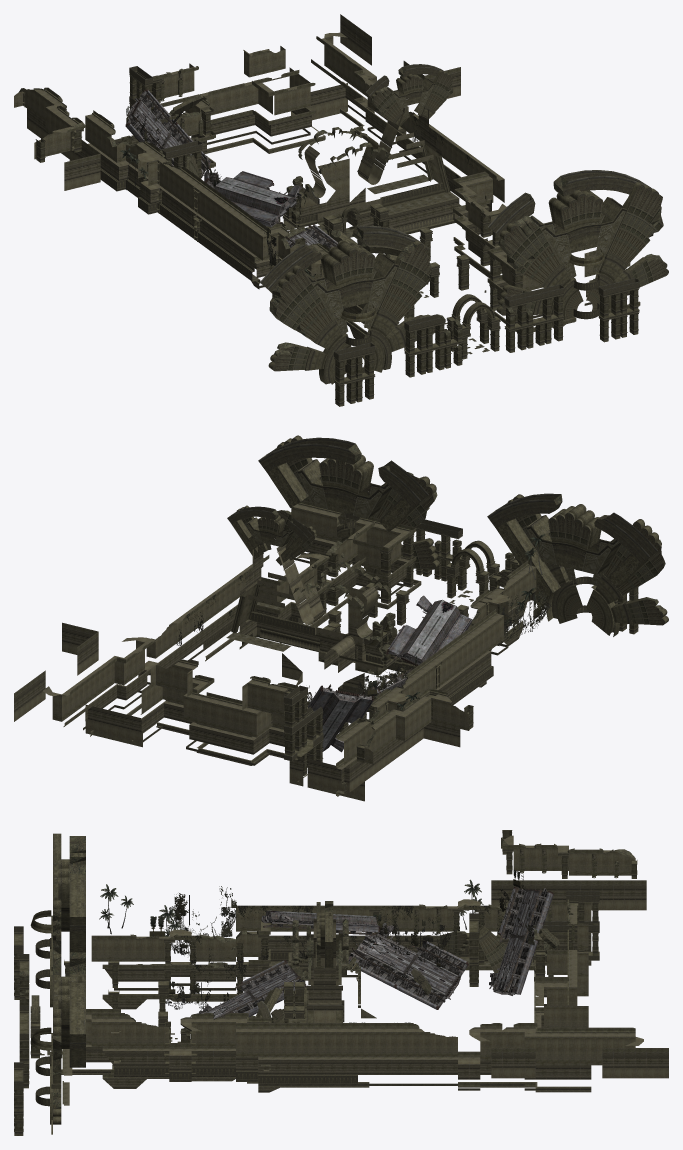
File: map0.fbx
3 views of the same model, one above another, from view 1: azimuth 30°, elevation 25°; view 2: azimuth 150°, elevation 25°; view 3: azimuth 270°, elevation 25° (orthographic). The views are drawn at different scales.
Visible parts, largest first — view 1: 0024_polySurfaceShape344815, 0016_polySurfaceShape344932, 0020_polySurfaceShape3434867, 0026_polySurfaceShape344938, 0021_polySurfaceShape3434868, 0022_kabeShape2, 0037_yasi_LShape, 0008_polySurfaceShape343488; view 2: 0024_polySurfaceShape344815, 0016_polySurfaceShape344932, 0021_polySurfaceShape3434868, 0020_polySurfaceShape3434867, 0026_polySurfaceShape344938, 0022_kabeShape2, 0037_yasi_LShape, 0008_polySurfaceShape343488, 0023_polySurfaceShape344815; view 3: 0016_polySurfaceShape344932, 0024_polySurfaceShape344815, 0021_polySurfaceShape3434868, 0026_polySurfaceShape344938, 0022_kabeShape2, 0037_yasi_LShape, 0020_polySurfaceShape3434867, 0033_polySurfaceShape3434878, 0028_polySurfaceShape343228.
Boxes of the visible parts, x1,y1,x2,y2 form: 0024_polySurfaceShape344815: [19, 64, 668, 406]; 0016_polySurfaceShape344932: [14, 46, 640, 338]; 0020_polySurfaceShape3434867: [169, 67, 325, 168]; 0026_polySurfaceShape344938: [125, 89, 337, 248]; 0021_polySurfaceShape3434868: [316, 14, 504, 202]; 0022_kabeShape2: [311, 59, 491, 211]; 0037_yasi_LShape: [120, 102, 474, 277]; 0008_polySurfaceShape343488: [252, 174, 486, 292]; 0024_polySurfaceShape344815: [227, 435, 668, 791]; 0016_polySurfaceShape344932: [85, 500, 536, 801]; 0021_polySurfaceShape3434868: [14, 555, 269, 721]; 0020_polySurfaceShape3434867: [132, 675, 310, 781]; 0026_polySurfaceShape344938: [307, 595, 472, 752]; 0022_kabeShape2: [63, 604, 239, 736]; 0037_yasi_LShape: [176, 534, 551, 709]; 0008_polySurfaceShape343488: [226, 602, 343, 793]; 0023_polySurfaceShape344815: [282, 653, 364, 688]; 0016_polySurfaceShape344932: [51, 835, 646, 1134]; 0024_polySurfaceShape344815: [14, 830, 637, 1135]; 0021_polySurfaceShape3434868: [236, 1023, 668, 1078]; 0026_polySurfaceShape344938: [196, 886, 553, 1017]; 0022_kabeShape2: [258, 1051, 591, 1092]; 0037_yasi_LShape: [99, 869, 538, 1022]; 0020_polySurfaceShape3434867: [534, 933, 588, 1028]; 0033_polySurfaceShape3434878: [201, 968, 300, 1018]; 0028_polySurfaceShape343228: [258, 1075, 357, 1083].
Size of what is drawn, in the model's own units: 182 by 74.27 by 236.
